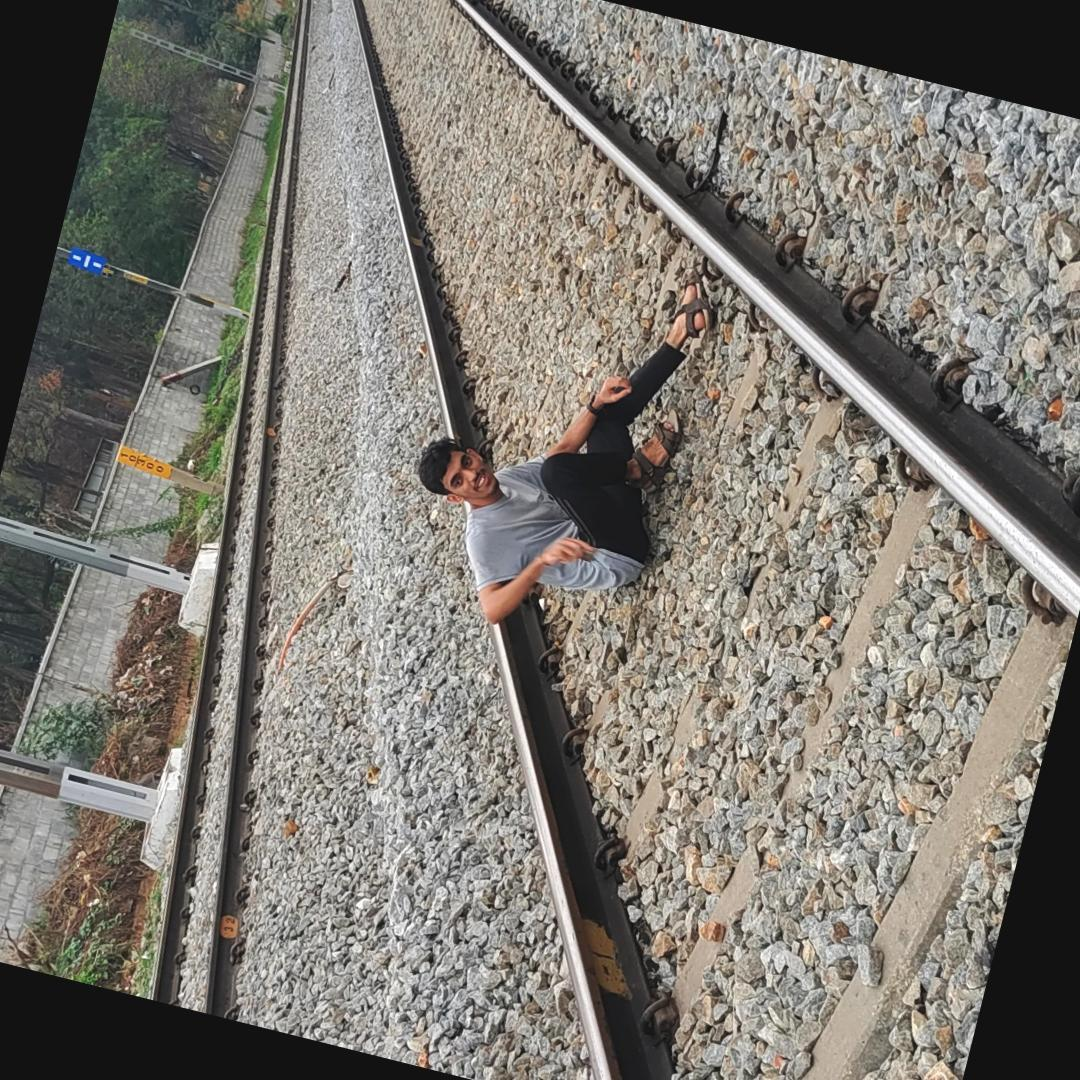sitting: (396, 210, 757, 664)
track: (325, 0, 1080, 1080)
